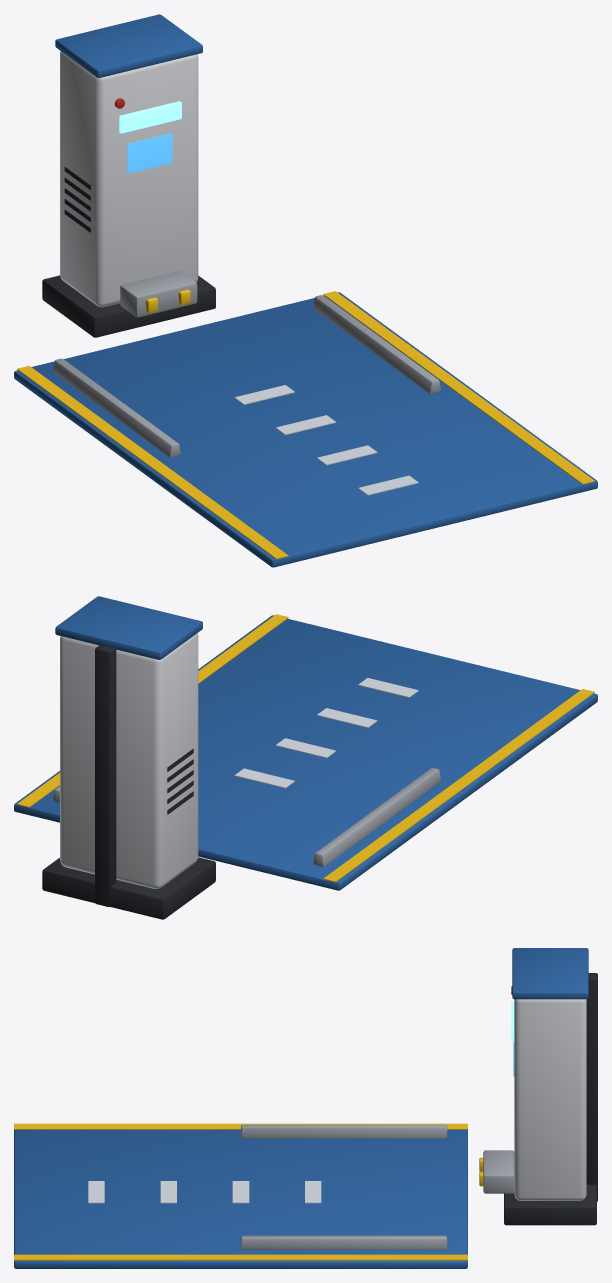
The model's file is ChargingBay.fbx.
3 renders of one model, top to bottom at view 1: azimuth 30°, elevation 25°; view 2: azimuth 150°, elevation 25°; view 3: azimuth 270°, elevation 25°, orthographic. The views are drawn at different scales.
Parts seen in each view (by area): view 1: Pad, Charger; view 2: Pad, Charger; view 3: Pad, Charger.
Part boxes in pixels (x1,y1,x2,y2): Pad: [14, 291, 597, 567]; Charger: [42, 14, 215, 337]; Pad: [14, 614, 597, 890]; Charger: [42, 596, 215, 919]; Pad: [14, 1123, 467, 1268]; Charger: [479, 948, 597, 1225].
Bounding box in the file's own units: 1.6 × 1.23 × 2.83.
